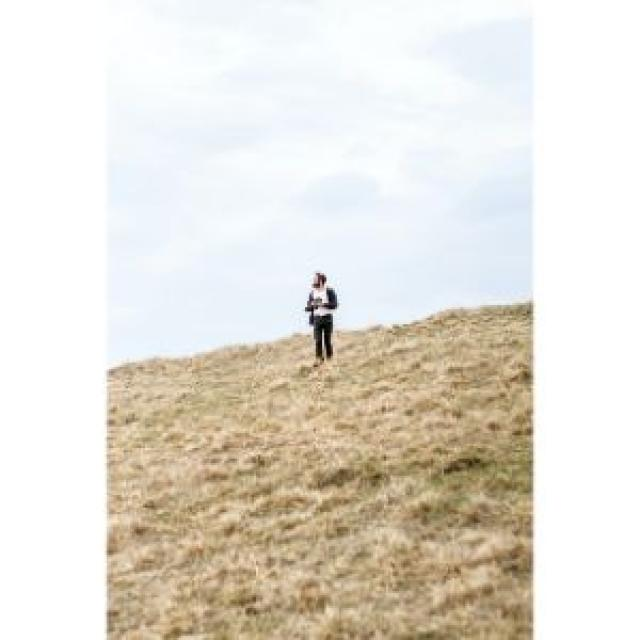nonfall: (296, 265, 355, 363)
